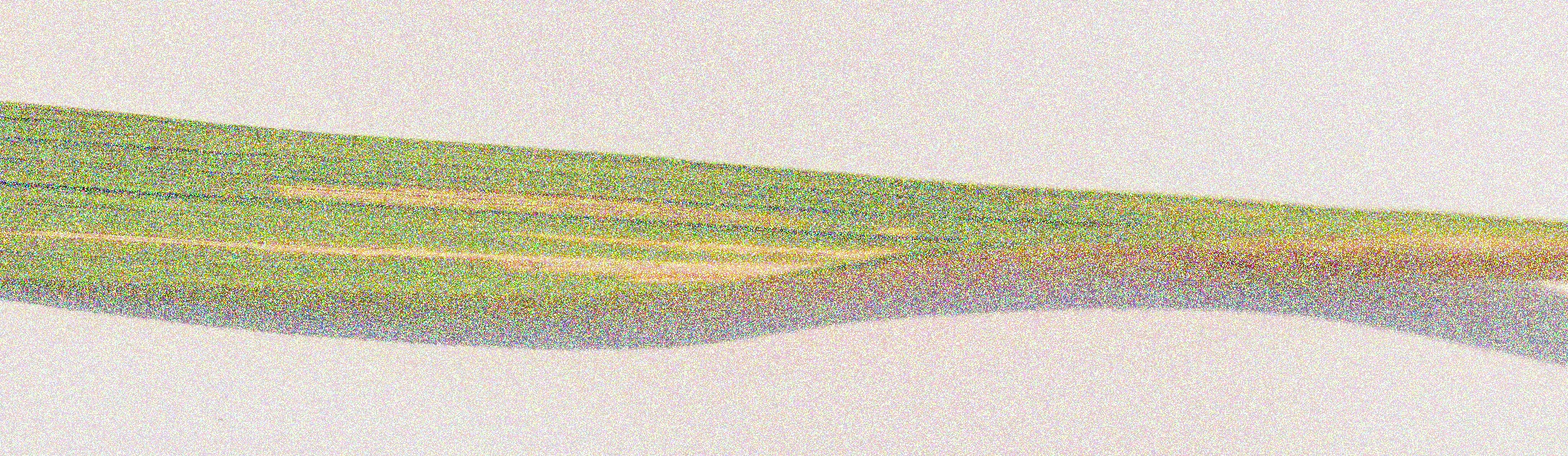Leaf_Blast: (18, 184, 1543, 274)
